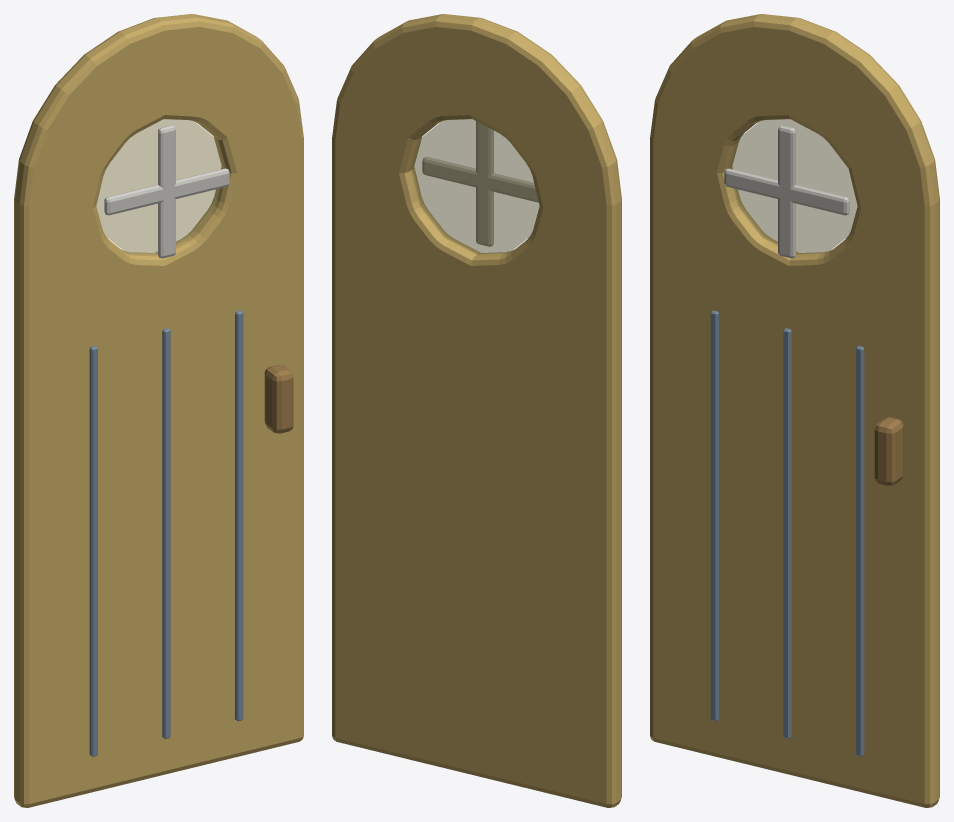
Rendered from SM_Kit_Door_Cottage.glb.
3 views of the same model, side by side, from view 1: azimuth 30°, elevation 25°; view 2: azimuth 150°, elevation 25°; view 3: azimuth 330°, elevation 25° (orthographic).
Parts seen in each view (by area): view 1: SM_Kit_Door_Cottage; view 2: SM_Kit_Door_Cottage; view 3: SM_Kit_Door_Cottage.
Part boxes in pixels (x1,y1,x2,y2): SM_Kit_Door_Cottage: (14,14,303,807); SM_Kit_Door_Cottage: (332,14,621,807); SM_Kit_Door_Cottage: (650,14,939,807).
Bounding box in the file's own units: 0.82 × 2.08 × 0.13.
